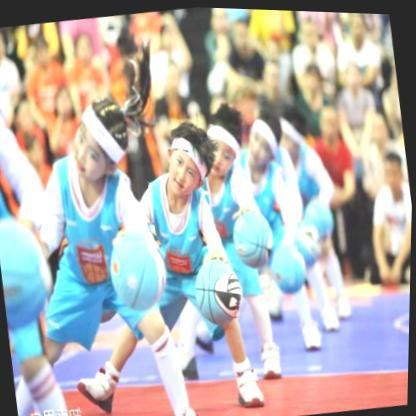basketball: (190, 252, 247, 325)
